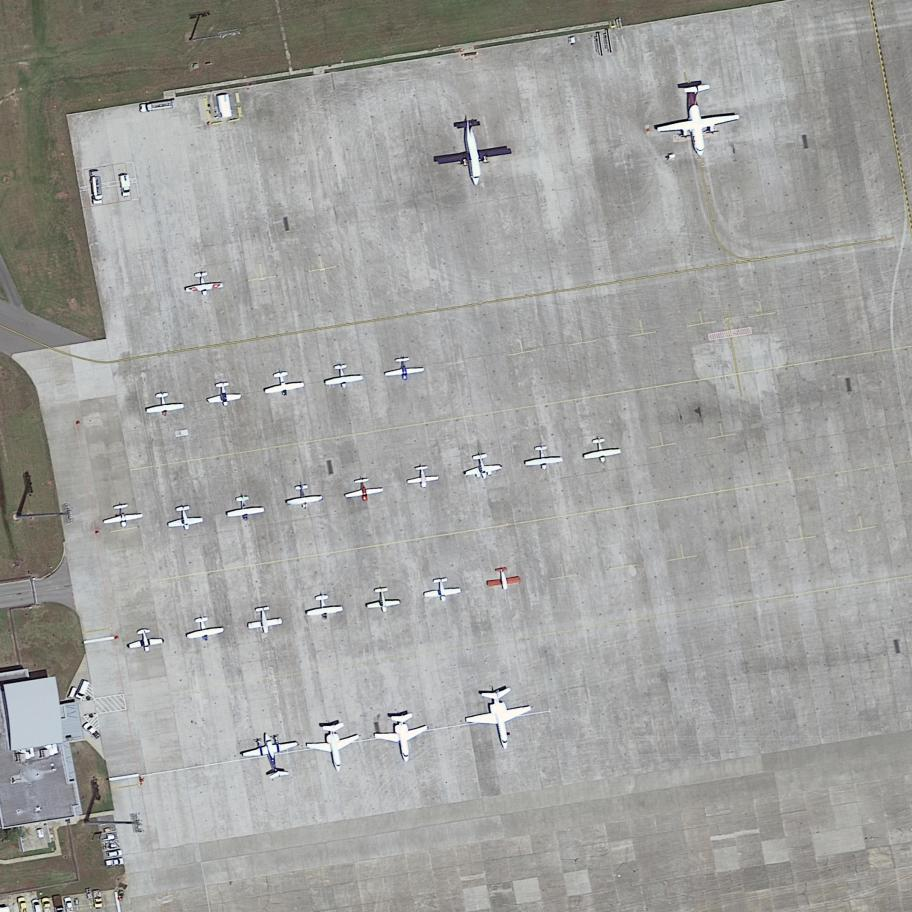large-vehicle: (87, 175, 105, 206), (139, 99, 173, 114), (118, 173, 132, 199)
plane: (648, 78, 746, 162), (428, 114, 518, 193), (461, 682, 539, 757), (237, 726, 306, 784), (370, 708, 434, 766), (302, 717, 365, 775), (460, 447, 504, 483), (261, 368, 306, 400), (579, 434, 623, 466), (321, 360, 365, 391), (164, 501, 205, 534), (243, 603, 284, 636), (302, 591, 344, 623), (183, 613, 225, 644), (182, 268, 225, 298), (284, 479, 324, 511), (523, 443, 565, 473), (143, 389, 185, 419), (342, 475, 385, 504), (225, 494, 266, 523), (101, 502, 145, 529), (383, 354, 425, 382), (126, 625, 165, 655), (422, 575, 463, 603), (364, 584, 401, 614), (204, 380, 243, 407), (485, 565, 522, 593), (405, 463, 440, 490)
small-vehicle: (82, 721, 102, 741), (74, 678, 91, 700), (105, 857, 125, 868), (92, 890, 103, 909), (105, 849, 124, 860)
